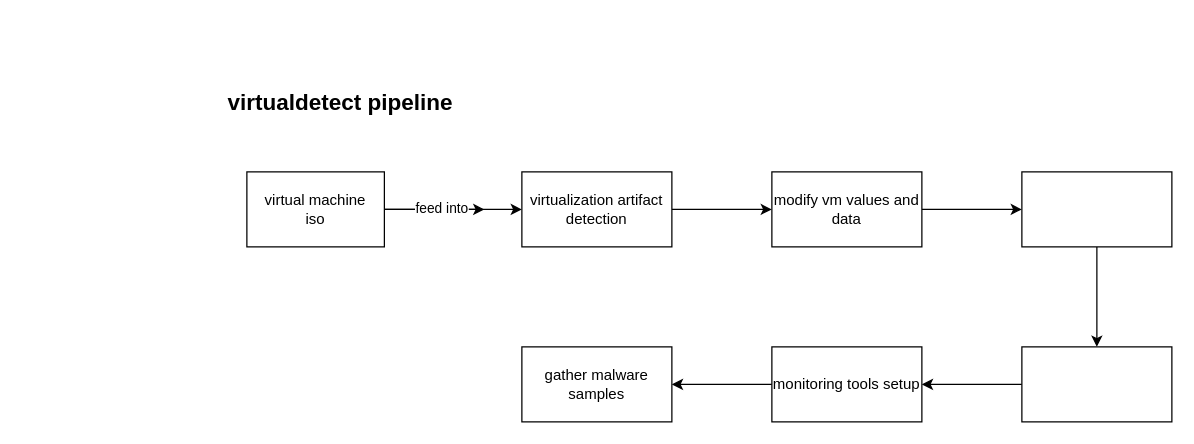
The diagram is 1194 pixels wide and 444 high, and some of its shapes have lost their labels. Each missing label, with the box of its shape:
auto-deploy via proxmox: (1021, 346, 1172, 422)
populate vm with "valuables": (1021, 171, 1172, 247)
